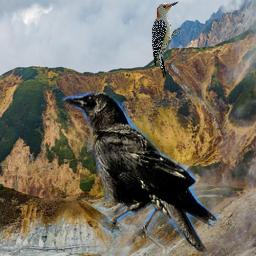Crow: (56, 90, 219, 255)
Woodpecker: (152, 0, 180, 81)
